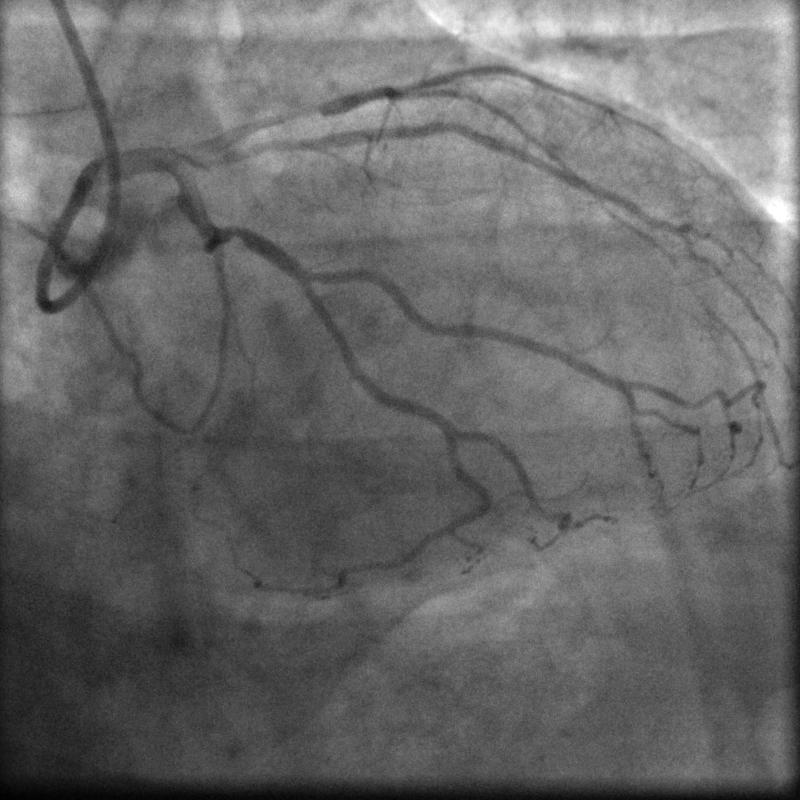Stenosis: (222, 221, 247, 244)
